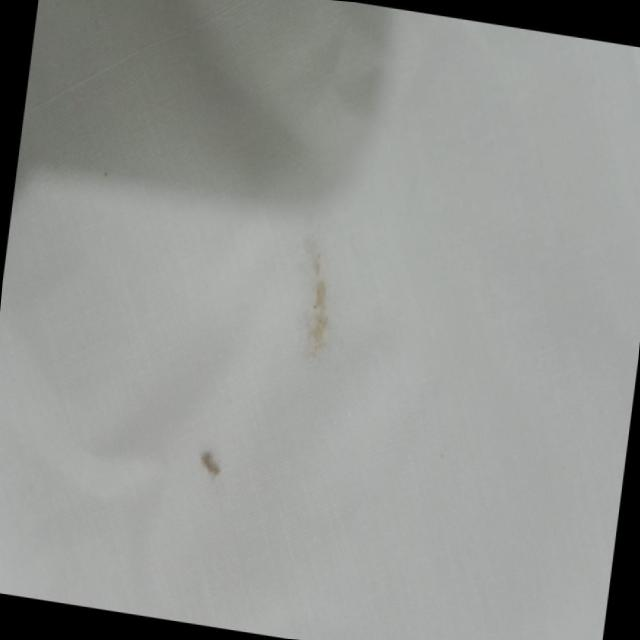stain: (284, 232, 344, 364), (186, 436, 236, 486)
